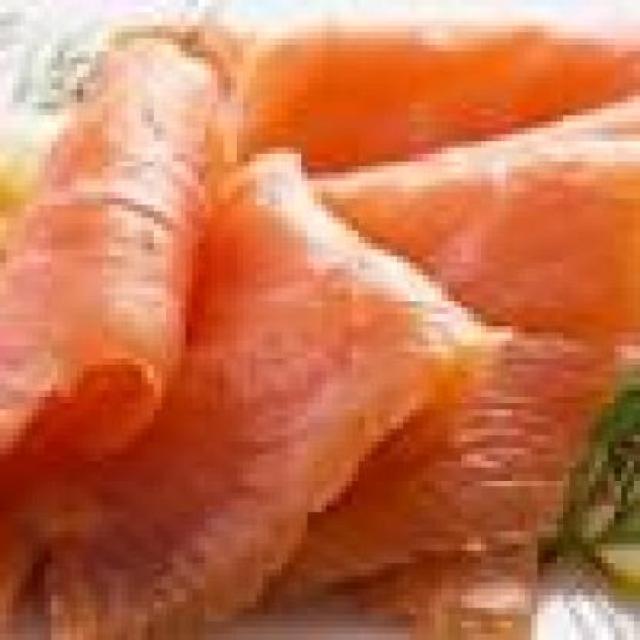salmon: (14, 134, 461, 639), (45, 153, 492, 614), (256, 71, 640, 570), (275, 89, 640, 595), (6, 50, 237, 448)
